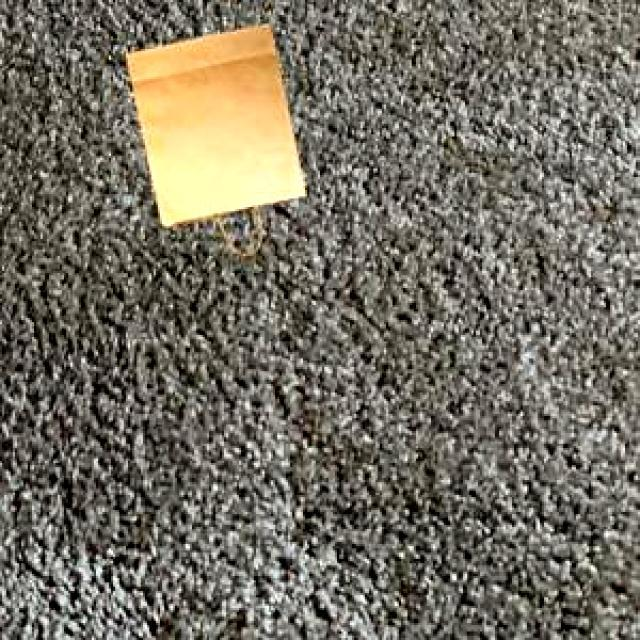Paper_Bag: (123, 20, 302, 223)
